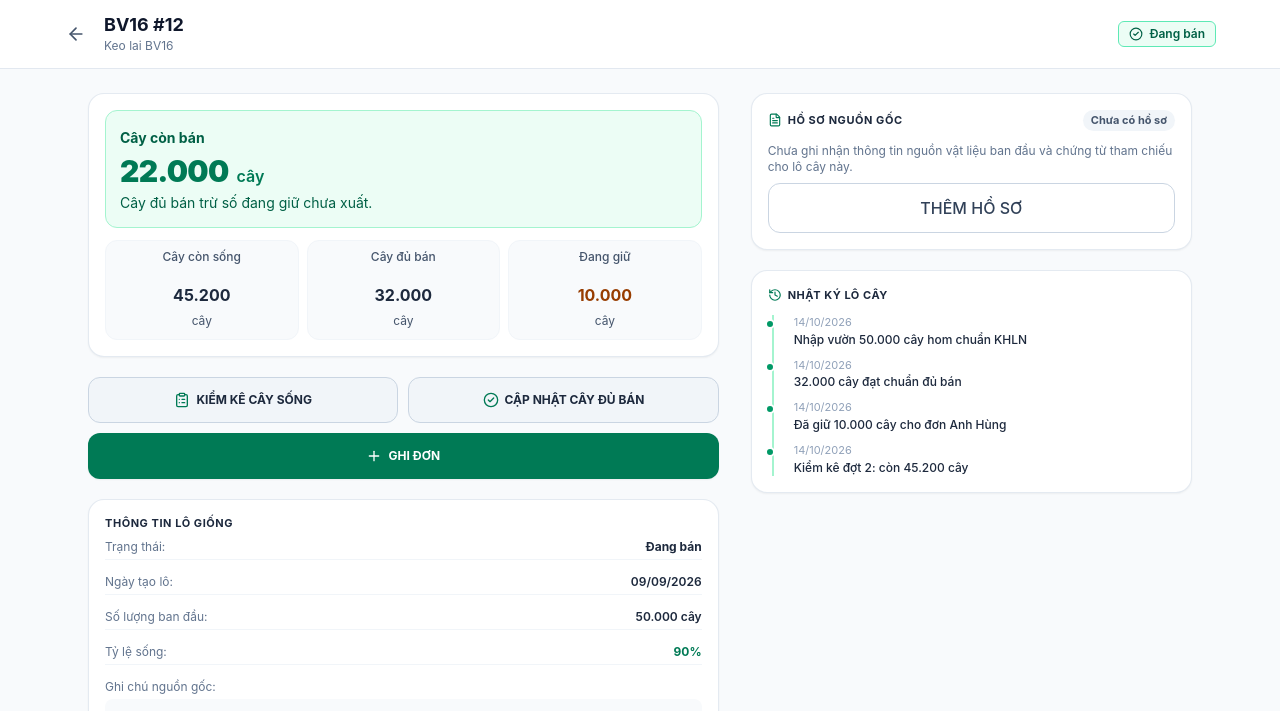
Test case: BatchDetailScreen › previews living changes while keeping ready and available stock unchanged before saving
Check: the heading "BV16 #12" is shown, box [104,14,184,35]
Click the button "KIỂM KÊ CÂY SỐNG" at x=243, y=400, box [88,377,398,423]
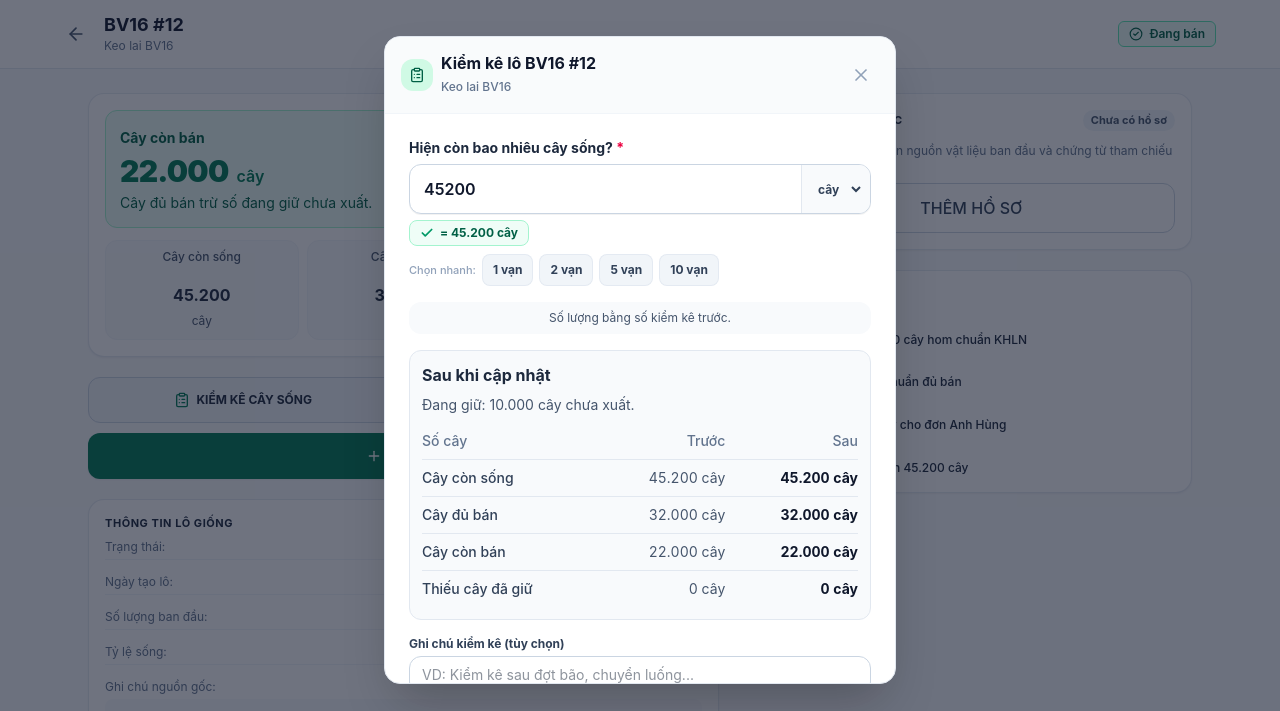
Replace the text in the field labelled "Hiện còn bao nhiêu cây sống? *" with "4 vạn" at x=606, y=189, box [410,165,801,213]
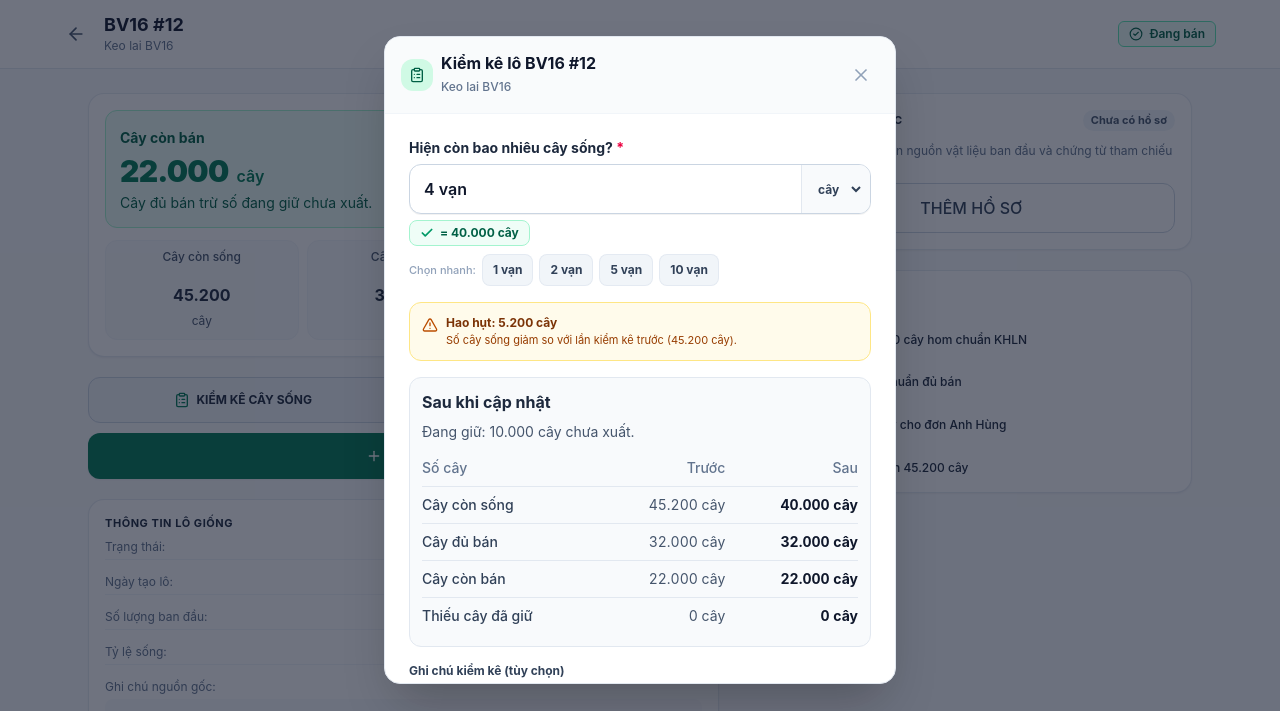
Check: the row "Cây đủ bán 32.000 cây 32.000 cây" is shown, box [422,523,858,560]
Check: the row "Cây còn bán 22.000 cây 22.000 cây" is shown, box [422,560,858,597]
Check: the row "Cây còn sống 45.200 cây 40.000 cây" is shown, box [422,486,858,523]
Select "vạn" in the dropdown named "Đơn vị tính số lượng" at x=835, y=189, box [806,172,864,206]
(page scrolled)
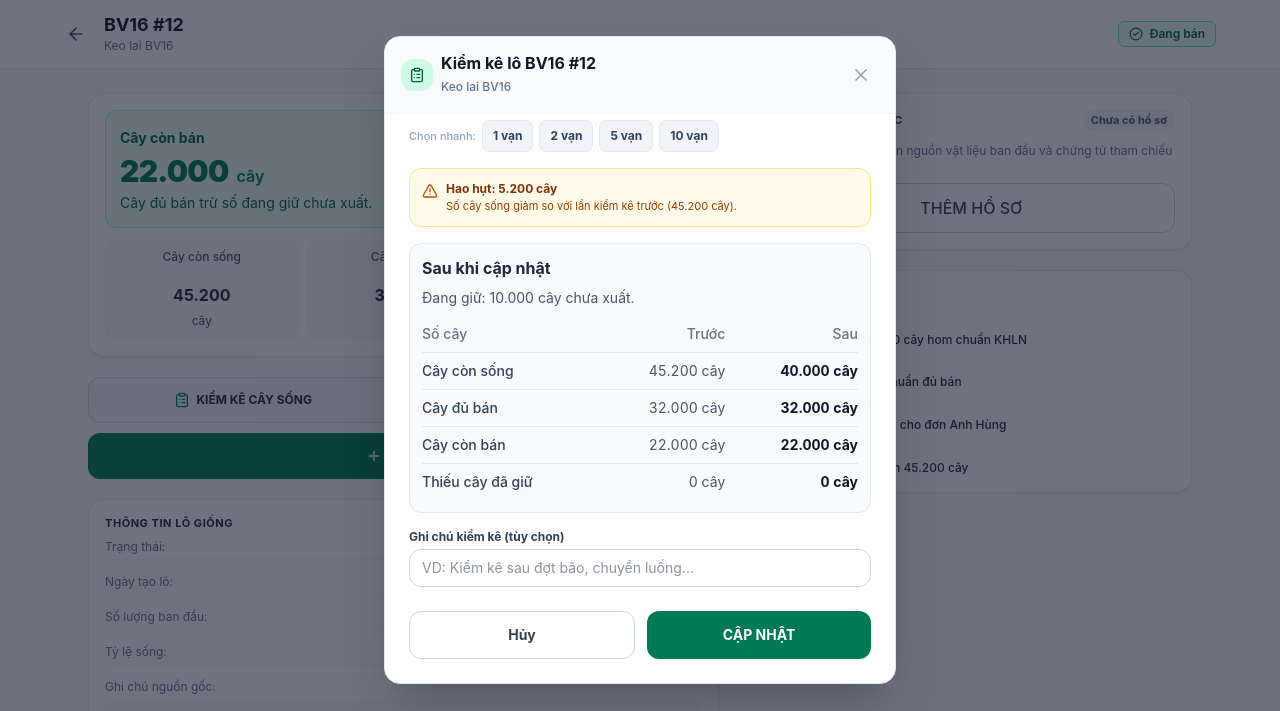
Click the button "Hủy" at x=522, y=635, box [409,611,635,659]
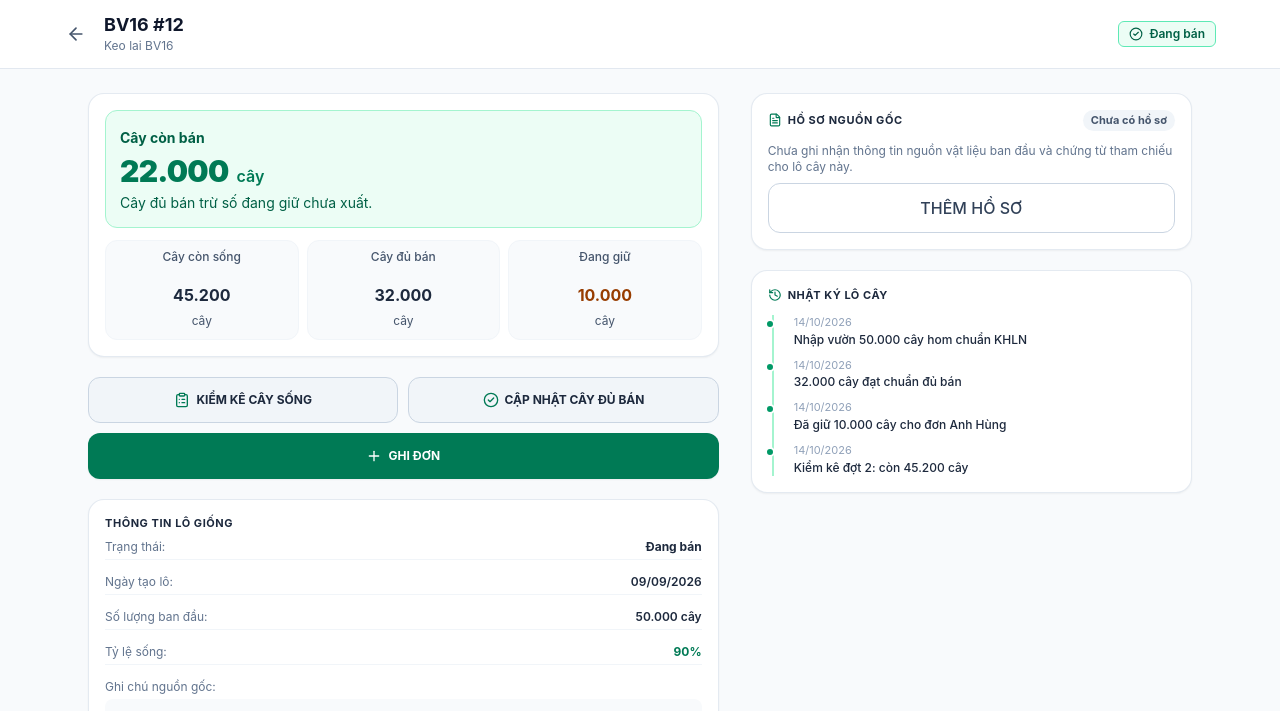
Click the button "KIỂM KÊ CÂY SỐNG" at x=243, y=400, box [88,377,398,423]
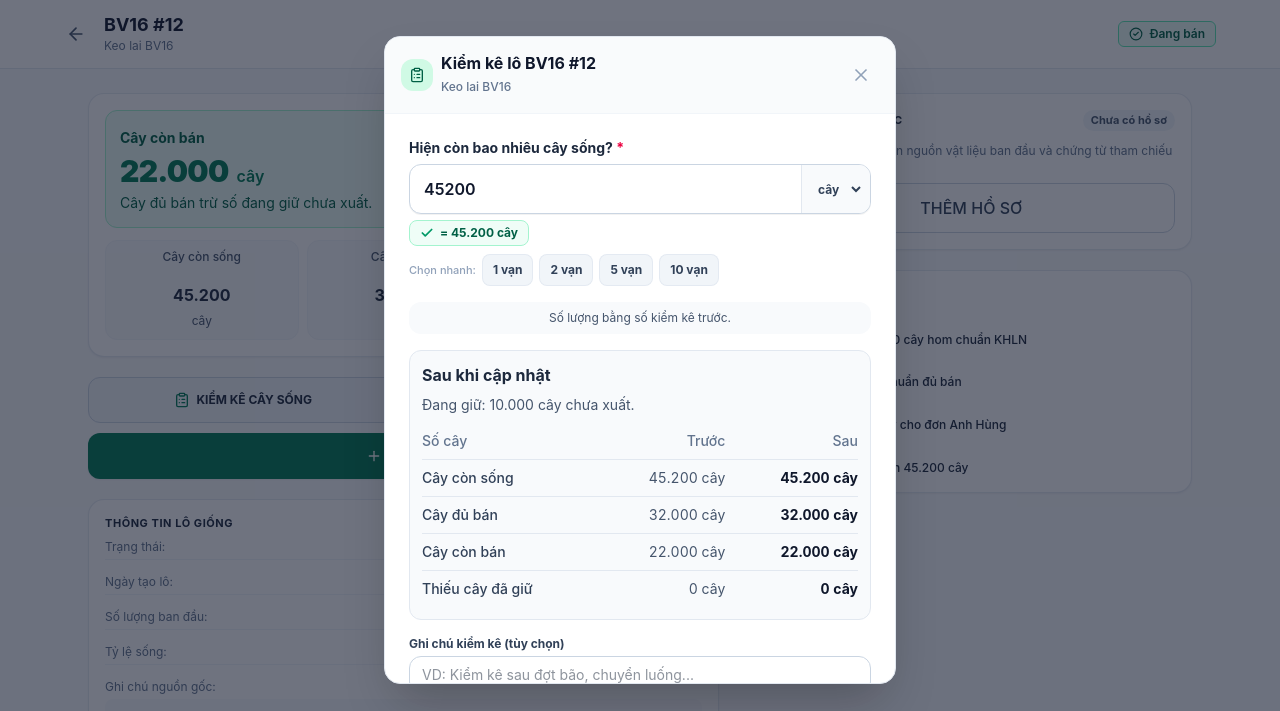
Check: the dropdown named "Đơn vị tính số lượng" shows "cây", box [806,172,864,206]
Check: the row "Cây còn sống 45.200 cây 45.200 cây" is shown, box [422,460,858,496]
